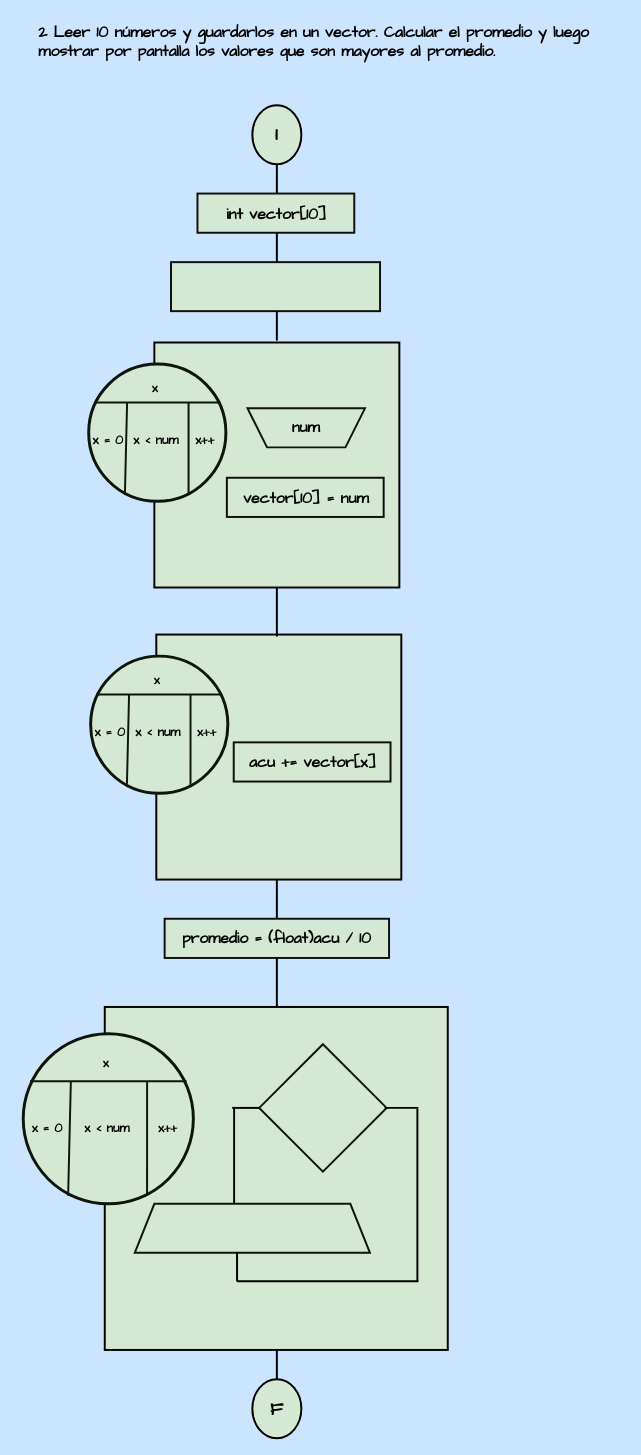
This 641x1455 diagram has some shape labels left out. The shapes that lost their labels are listed below. From the top down, each one's box as (x1, y1, x2, y2) in pixels, then its label:
(170, 261, 381, 312): int num, x = 0, acu = 0 float promedio
(258, 1043, 387, 1172): vector[x] < promedio
(133, 1202, 370, 1253): "Valores mayor al promedio ", vector[x]
